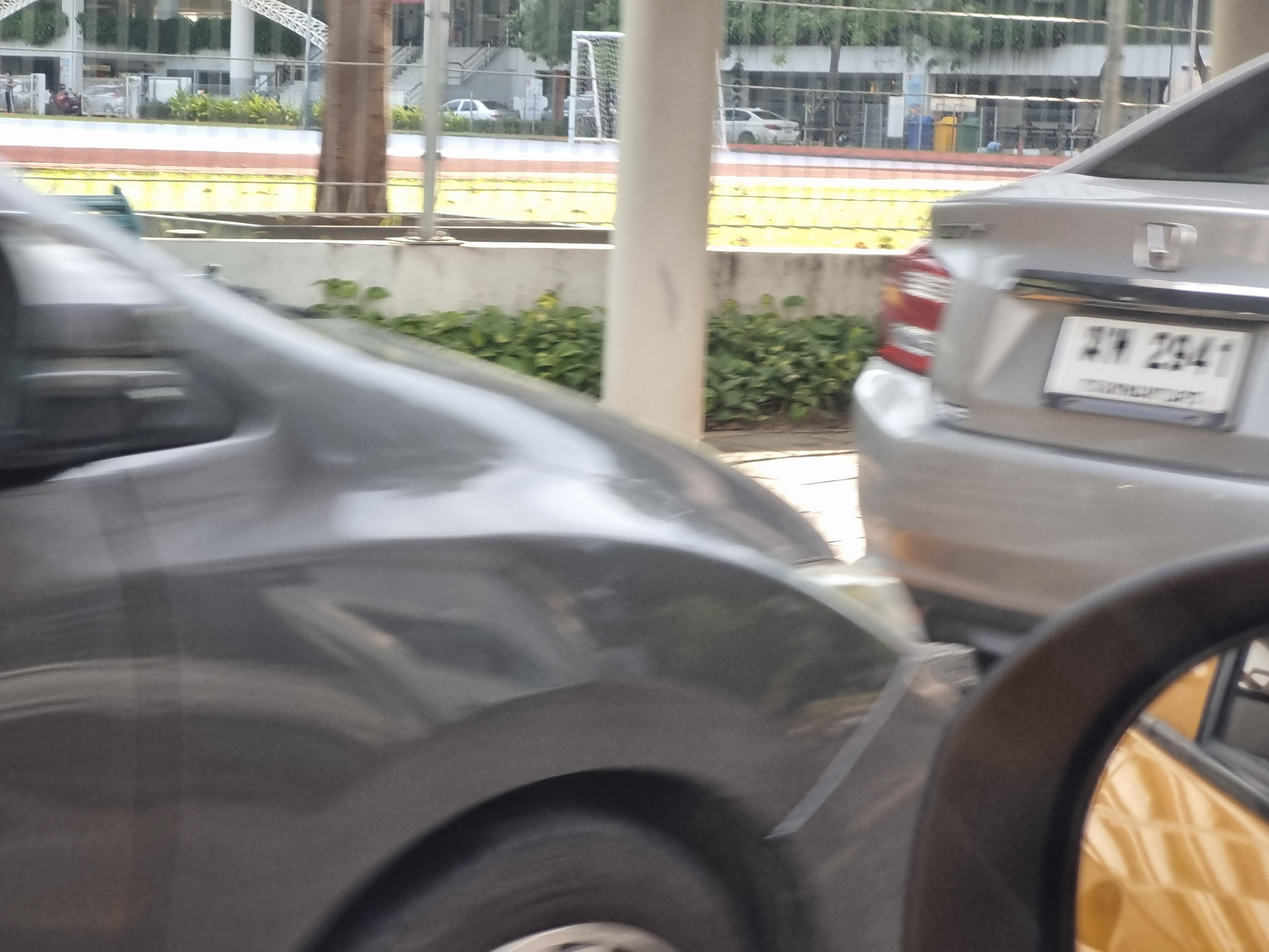license-plate: (1046, 298, 1259, 432)
